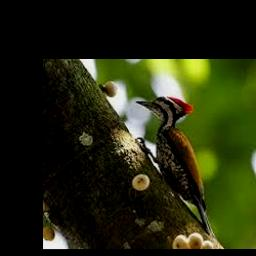Woodpecker: (135, 97, 214, 236)
